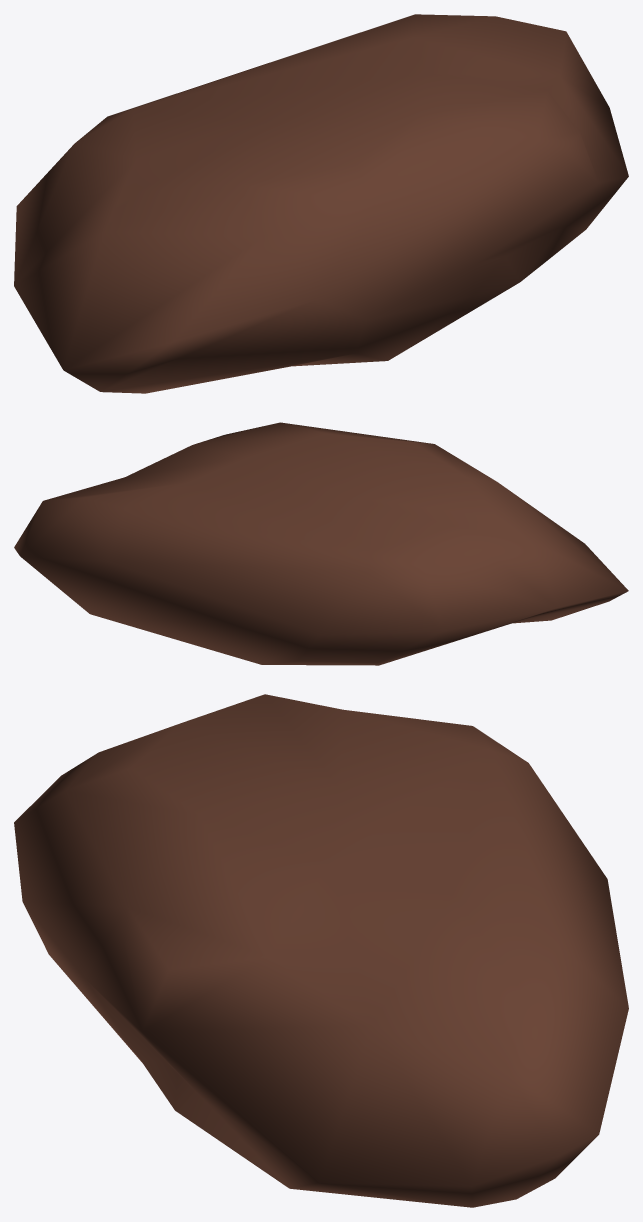
The model's file is Stone3.fbx.
3 views of the same model, one above another, from view 1: azimuth 30°, elevation 25°; view 2: azimuth 150°, elevation 25°; view 3: azimuth 270°, elevation 25° (orthographic). The views are drawn at different scales.
Parts seen in each view (by area): view 1: Stone3; view 2: Stone3; view 3: Stone3.
Boxes of the visible parts, x1=… form: Stone3: x1=14, y1=14, x2=628, y2=393; Stone3: x1=14, y1=422, x2=628, y2=665; Stone3: x1=14, y1=694, x2=628, y2=1207.
Size of the model in its own units: 172 by 54.96 by 104.
